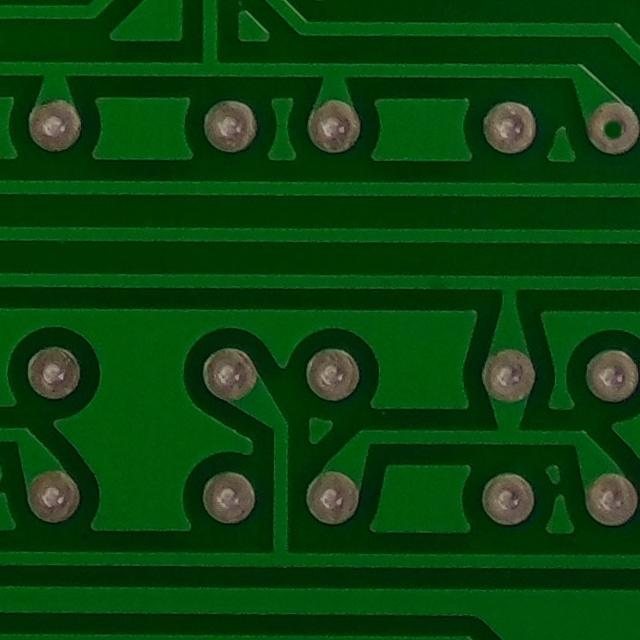missing_hole: (583, 95, 640, 161)
